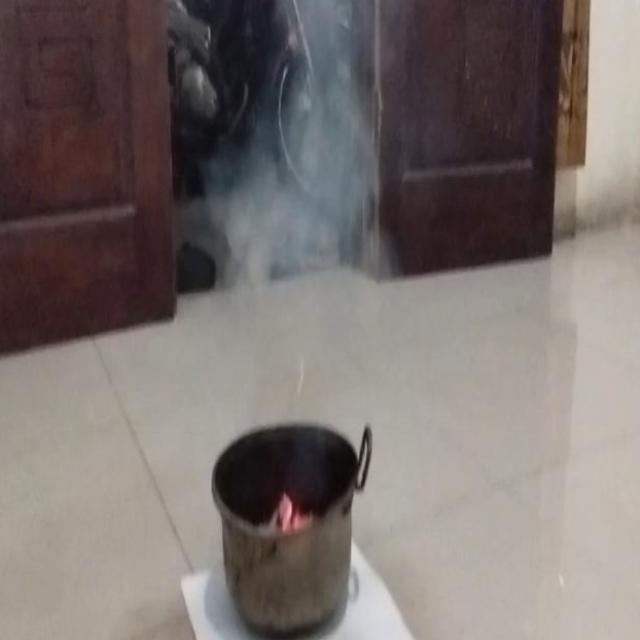fire: (217, 1, 364, 276)
